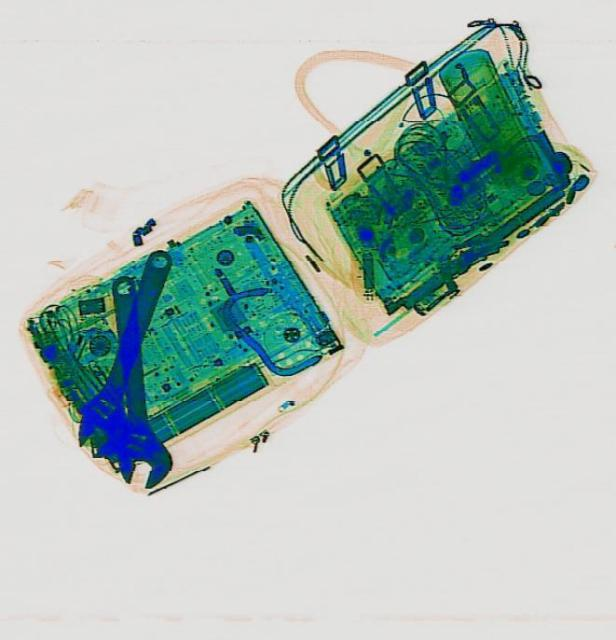Wrench: (60, 241, 195, 465), (96, 272, 173, 490)
